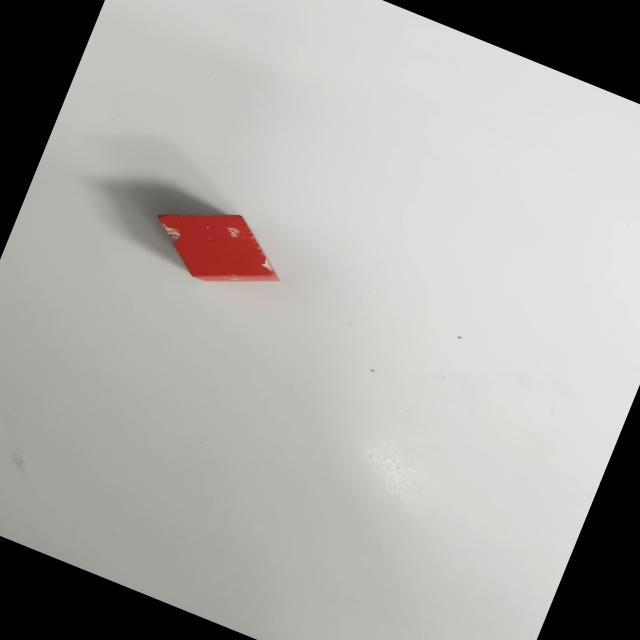broken: (140, 185, 296, 308)
